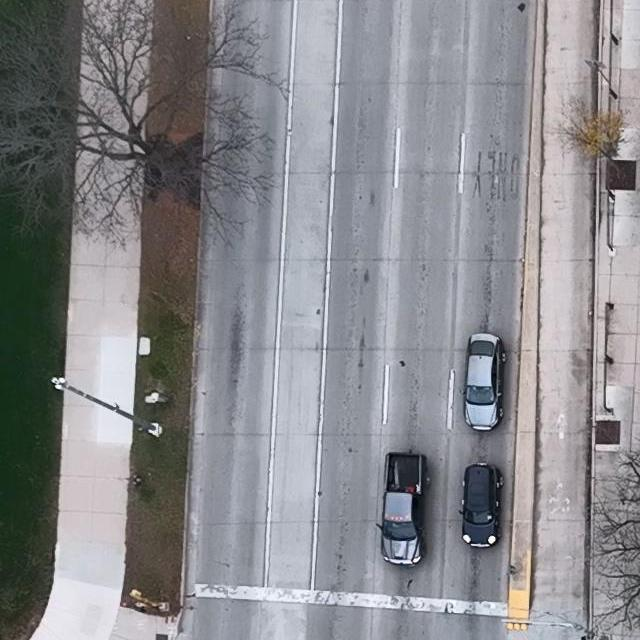car: (375, 448, 432, 569), (461, 332, 506, 431), (459, 462, 504, 549)
